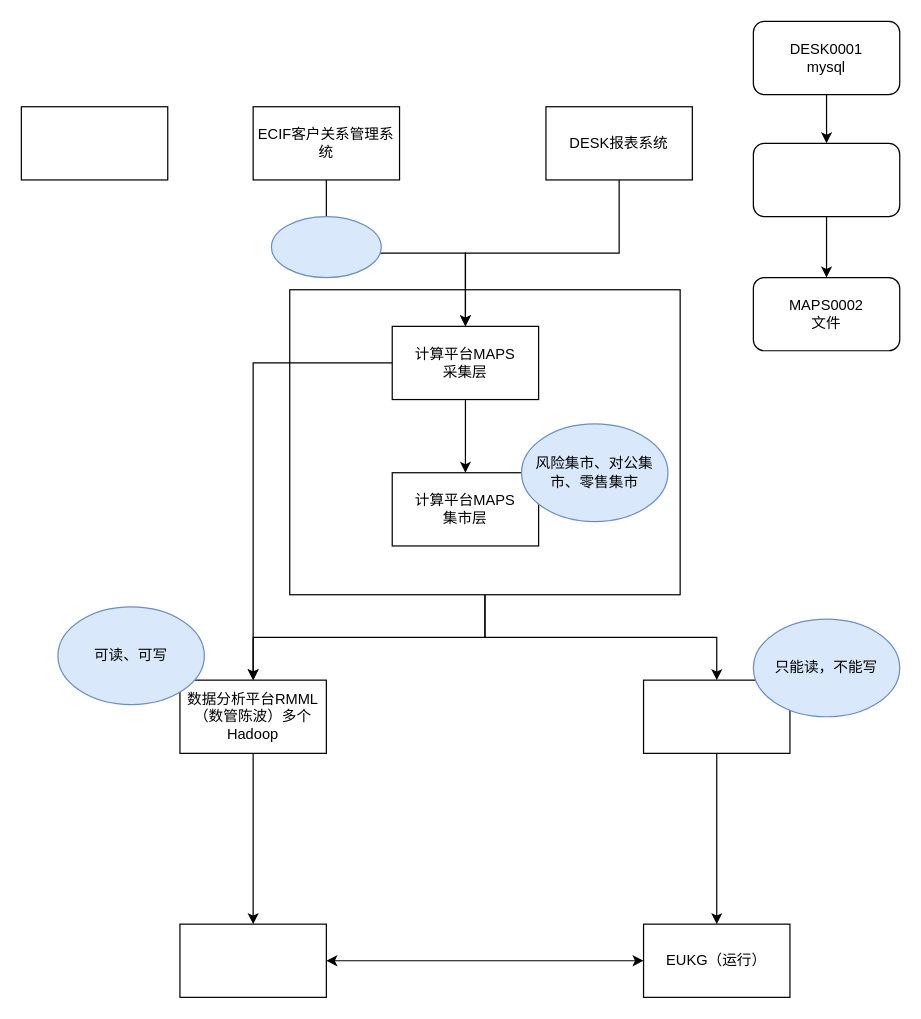
This 921x1019 diagram has some shape labels left out. Each missing label, with the centre of its shape:
"ADE" goes at pixel 325 246.
"AIEP（俞书浩） 1个hadoop" goes at pixel 716 716.
"DESK0002 文件" goes at pixel 826 179.
"EUKG(分析)" goes at pixel 252 960.
"源系统" goes at pixel 94 143.
